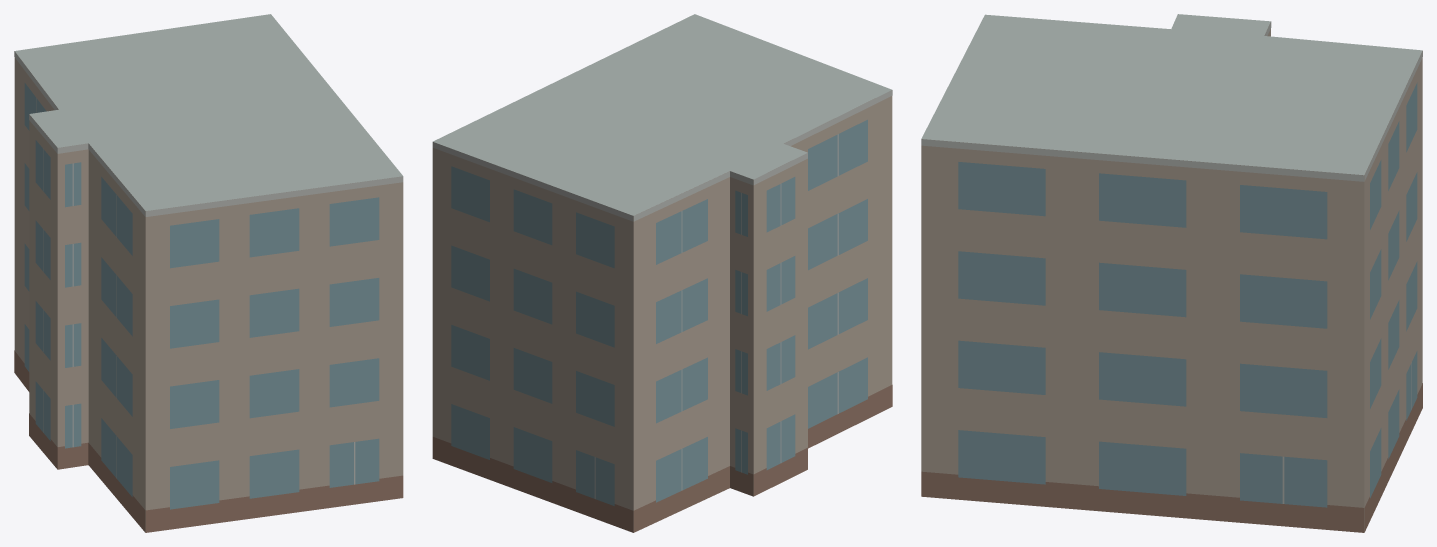
Rendered from survey-upis-32826491.glb.
3 renders of one model, left to right at view 1: azimuth 30°, elevation 25°; view 2: azimuth 150°, elevation 25°; view 3: azimuth 270°, elevation 25°, orthographic. The views are drawn at different scales.
Parts seen in each view (by area): view 1: survey-upis-32826491.tmp; view 2: survey-upis-32826491.tmp; view 3: survey-upis-32826491.tmp.
Boxes of the visible parts, x1=… form: survey-upis-32826491.tmp: x1=14, y1=14, x2=403, y2=532; survey-upis-32826491.tmp: x1=432, y1=14, x2=892, y2=532; survey-upis-32826491.tmp: x1=921, y1=14, x2=1422, y2=532.
Bounding box in the file's own units: 12.67 × 13.1 × 16.66.
